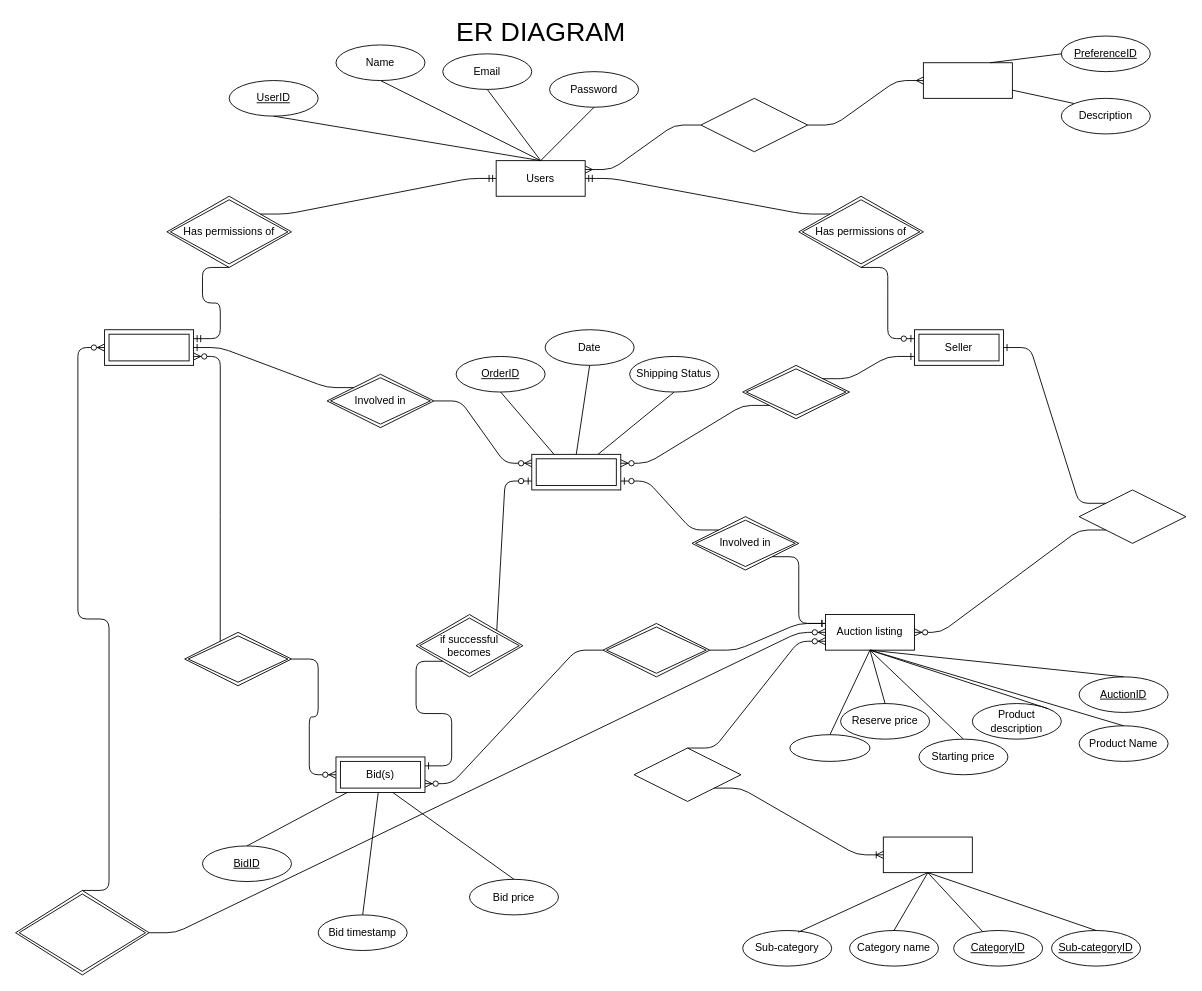
The diagram is 1202 pixels wide and 991 high, and some of its shapes have lost their labels. Each missing label, with the box of its shape:
adds to watchlist: (15, 890, 149, 975)
Belongs to: (633, 747, 741, 801)
Buyer: (104, 329, 194, 365)
connected to: (602, 623, 710, 677)
Creates: (1078, 489, 1186, 543)
End date: (789, 734, 870, 761)
Fulfills/sells: (742, 364, 850, 419)
Interaction Preferences: (922, 62, 1012, 98)
Order: (531, 453, 621, 490)
Product/Auction Category: (882, 836, 972, 873)
Stores: (700, 97, 808, 152)
submits/places: (184, 631, 291, 686)
